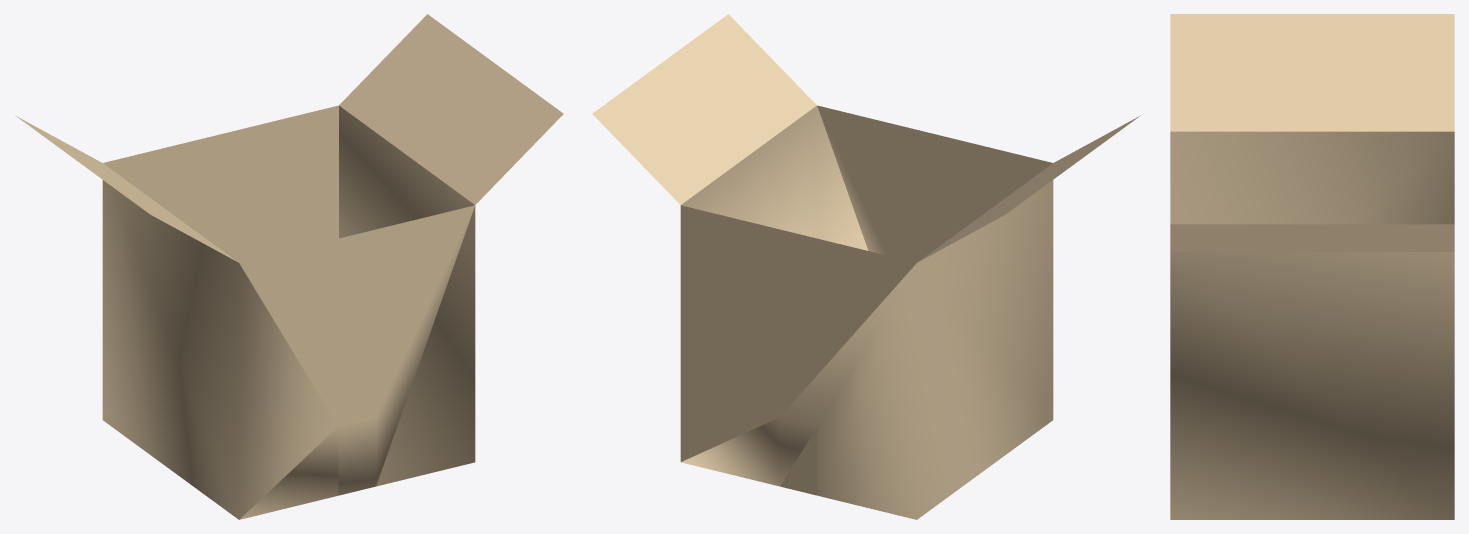
Rendered from cardboardBoxOpen.glb.
The picture shows the model from 3 angles, left to right: view 1: azimuth 30°, elevation 25°; view 2: azimuth 150°, elevation 25°; view 3: azimuth 270°, elevation 25°; orthographic projection. The views are drawn at different scales.
Parts seen in each view (by area): view 1: cardboardBoxOpen; view 2: cardboardBoxOpen; view 3: cardboardBoxOpen.
Boxes of the visible parts, <box> form: cardboardBoxOpen: <box>15,14,563,519</box>; cardboardBoxOpen: <box>592,14,1140,519</box>; cardboardBoxOpen: <box>1170,14,1454,519</box>.
Bounding box in the file's own units: 3.72 × 2.81 × 2.13.
